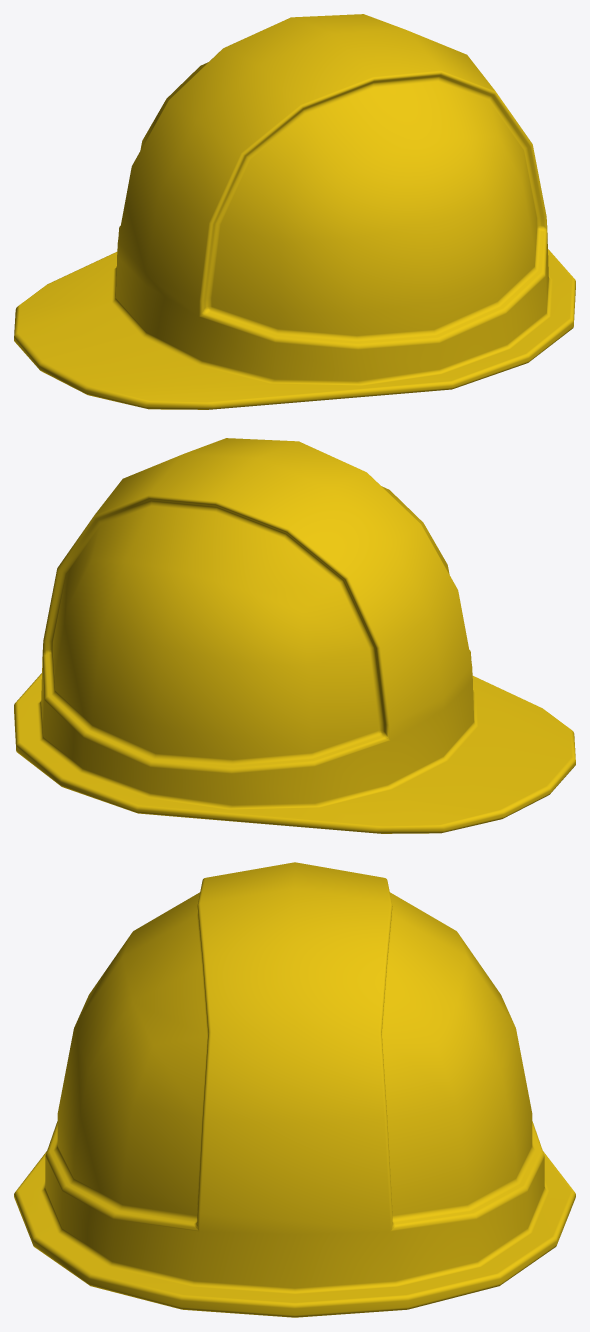
Rendered from topikonstruksi.fbx.
3 views of the same model, one above another, from view 1: azimuth 30°, elevation 25°; view 2: azimuth 150°, elevation 25°; view 3: azimuth 270°, elevation 25° (orthographic). The views are drawn at different scales.
Parts seen in each view (by area): view 1: Cube; view 2: Cube; view 3: Cube.
Boxes of the visible parts, bbox=[...] form: Cube: bbox=[14, 14, 575, 409]; Cube: bbox=[14, 438, 575, 833]; Cube: bbox=[14, 862, 575, 1317].
Size of the model in its own units: 239 by 122 by 199.
